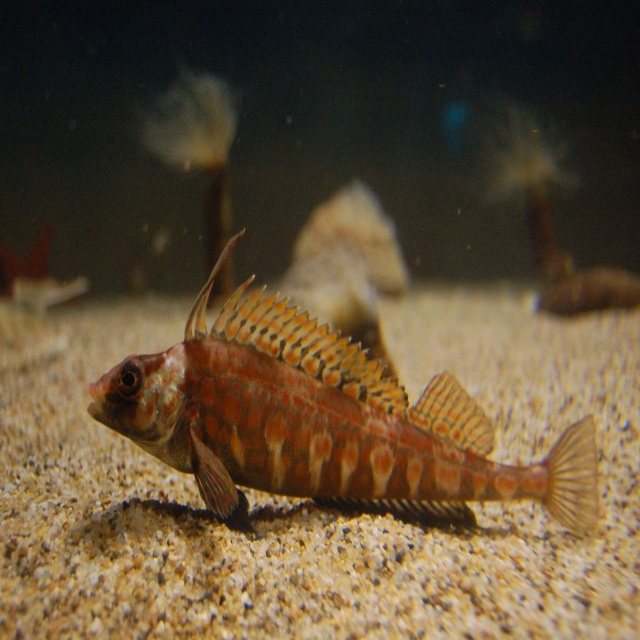Fish: (97, 237, 599, 541)
